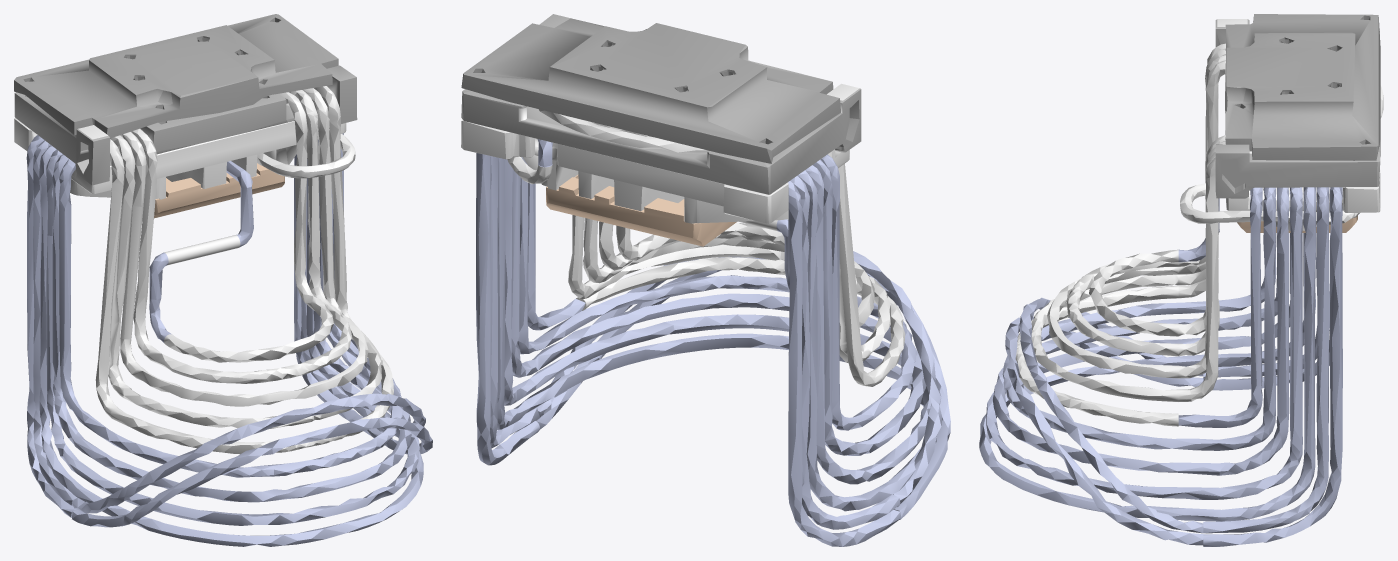
File: extrah4.FBX
The picture shows the model from 3 angles, left to right: view 1: azimuth 30°, elevation 25°; view 2: azimuth 150°, elevation 25°; view 3: azimuth 270°, elevation 25°; orthographic projection. The views are drawn at different scales.
Visible parts, largest first — view 1: VIFS017, VIFS018, VIFS022, VIFS021, VIFS011, VIFS016, VIFS015, VIFS027, VIFS012, VIFS014, VIFS013; view 2: VIFS017, VIFS022, VIFS018, VIFS021, VIFS011, VIFS013, VIFS027, VIFS015, VIFS012, VIFS016, VIFS014; view 3: VIFS017, VIFS022, VIFS018, VIFS021, VIFS013, VIFS016, VIFS015, VIFS012, VIFS011, VIFS014.
Part boxes in pixels (left/top/right/bottom): VIFS017: left=26, top=133, right=423, bottom=546; VIFS018: left=95, top=86, right=381, bottom=428; VIFS022: left=14, top=14, right=338, bottom=138; VIFS021: left=14, top=65, right=357, bottom=185; VIFS011: left=14, top=118, right=346, bottom=199; VIFS016: left=72, top=417, right=432, bottom=527; VIFS015: left=72, top=393, right=425, bottom=513; VIFS027: left=154, top=163, right=284, bottom=218; VIFS012: left=110, top=353, right=393, bottom=454; VIFS014: left=257, top=134, right=355, bottom=178; VIFS013: left=294, top=154, right=381, bottom=437; VIFS017: left=490, top=154, right=936, bottom=546; VIFS022: left=461, top=18, right=840, bottom=163; VIFS018: left=539, top=109, right=890, bottom=386; VIFS021: left=461, top=14, right=861, bottom=194; VIFS011: left=461, top=120, right=849, bottom=223; VIFS013: left=476, top=139, right=552, bottom=465; VIFS027: left=546, top=174, right=736, bottom=246; VIFS015: left=536, top=251, right=942, bottom=506; VIFS012: left=576, top=257, right=905, bottom=379; VIFS016: left=535, top=256, right=950, bottom=519; VIFS014: left=507, top=156, right=552, bottom=184; VIFS017: left=979, top=187, right=1329, bottom=533; VIFS022: left=1225, top=14, right=1380, bottom=160; VIFS018: left=1031, top=43, right=1383, bottom=401; VIFS021: left=1215, top=19, right=1380, bottom=198; VIFS013: left=1203, top=187, right=1342, bottom=546; VIFS016: left=1005, top=317, right=1203, bottom=545; VIFS015: left=1019, top=297, right=1203, bottom=533; VIFS012: left=1015, top=285, right=1178, bottom=426; VIFS011: left=1226, top=170, right=1380, bottom=230; VIFS014: left=1180, top=183, right=1359, bottom=224.
Size of the model in its own units: 0.155 by 0.1793 by 0.1639.
